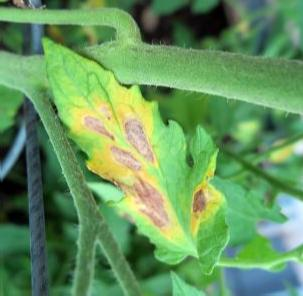Tomato Early blight leaf: (43, 38, 219, 279)
